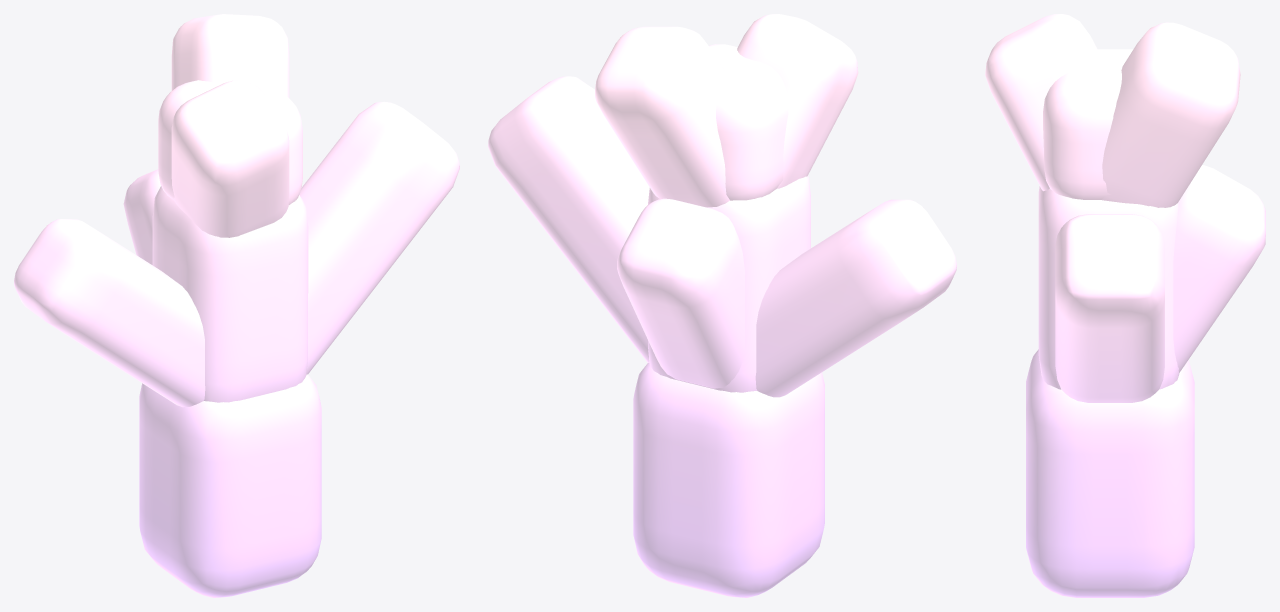
File: Block_Coral_Pink_v0926.glb
3 views of the same model, side by side, from view 1: azimuth 30°, elevation 25°; view 2: azimuth 150°, elevation 25°; view 3: azimuth 270°, elevation 25° (orthographic). The views are drawn at different scales.
Bounding box in the file's own units: 1.21 × 1.48 × 0.6666.
